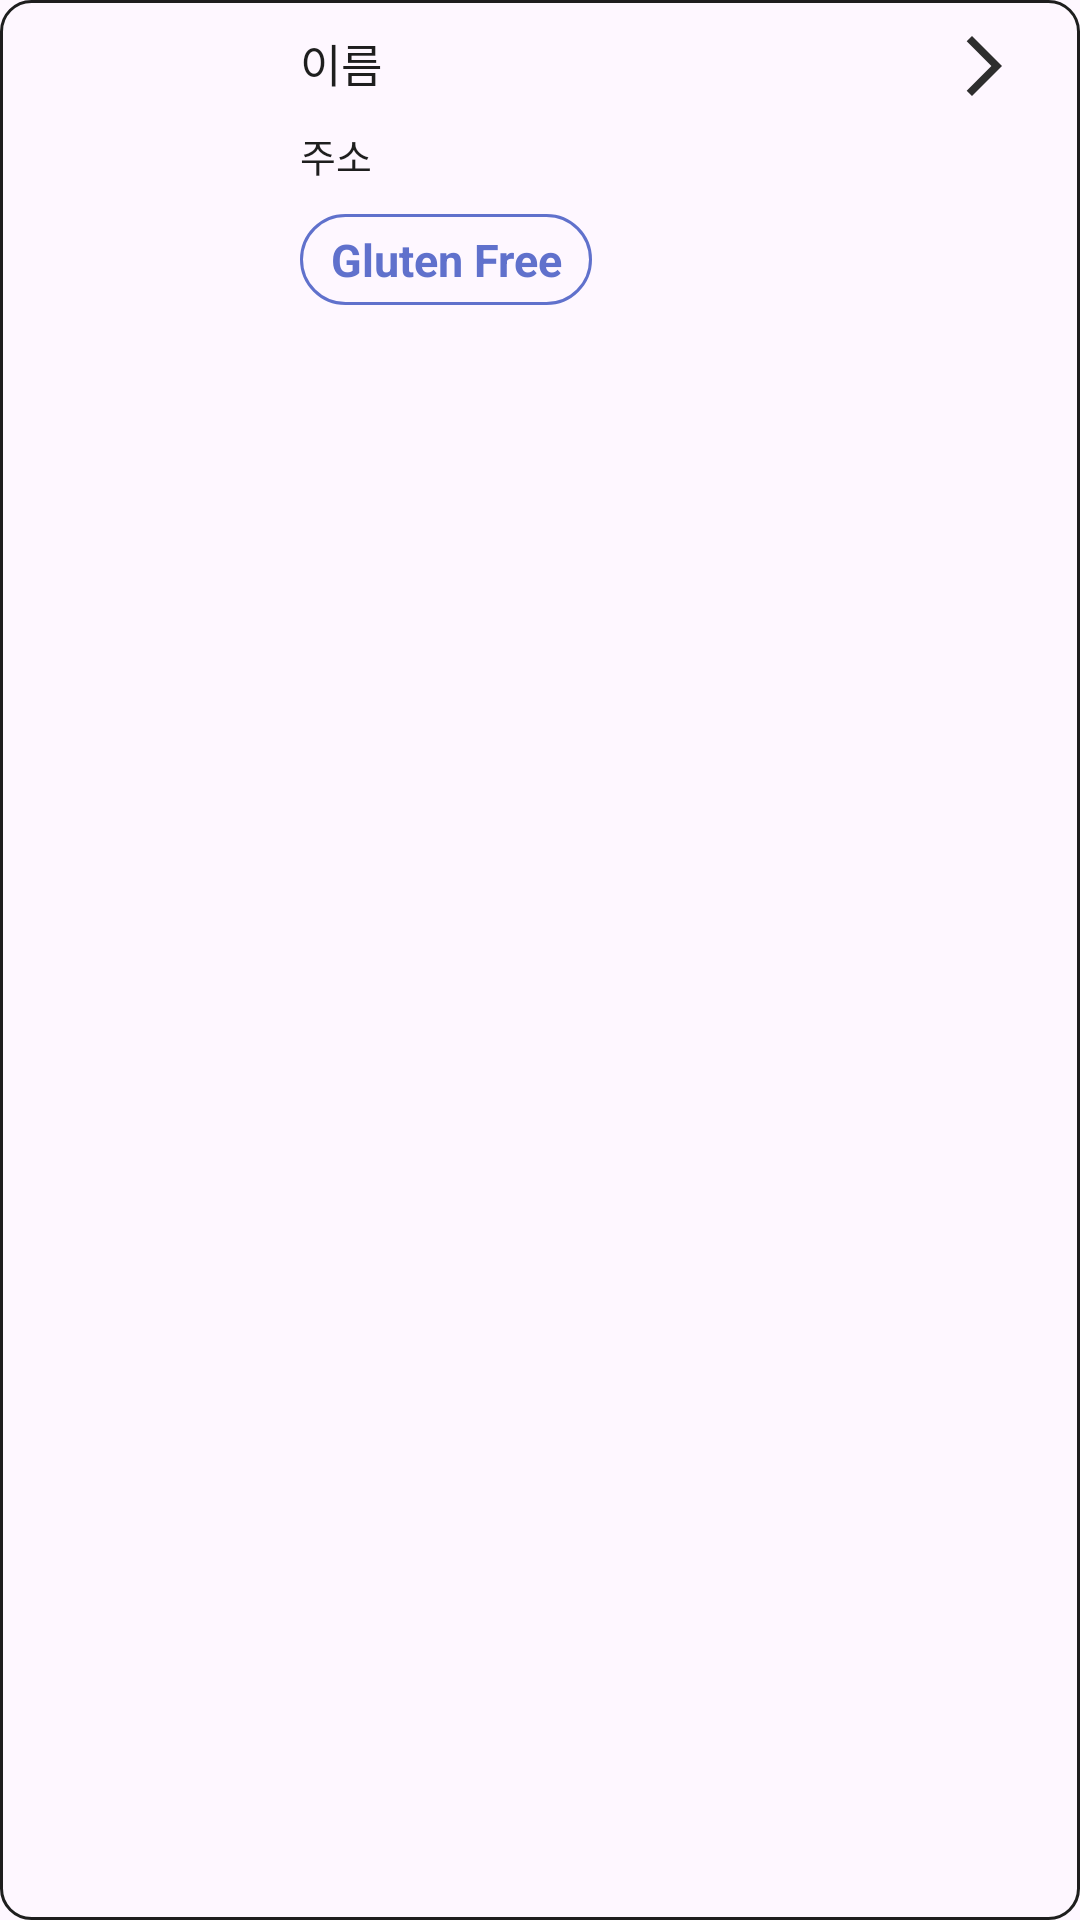

Point at icon controls on the screen. Image size 1080px x 1920px, points as (x=x, y=y).
arrow forward: (x=984, y=66)
